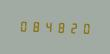eight: (54, 19, 65, 34), (29, 19, 40, 33)
four: (42, 19, 53, 33)
two: (66, 20, 77, 34)
zero: (17, 18, 28, 33), (78, 20, 89, 35)
